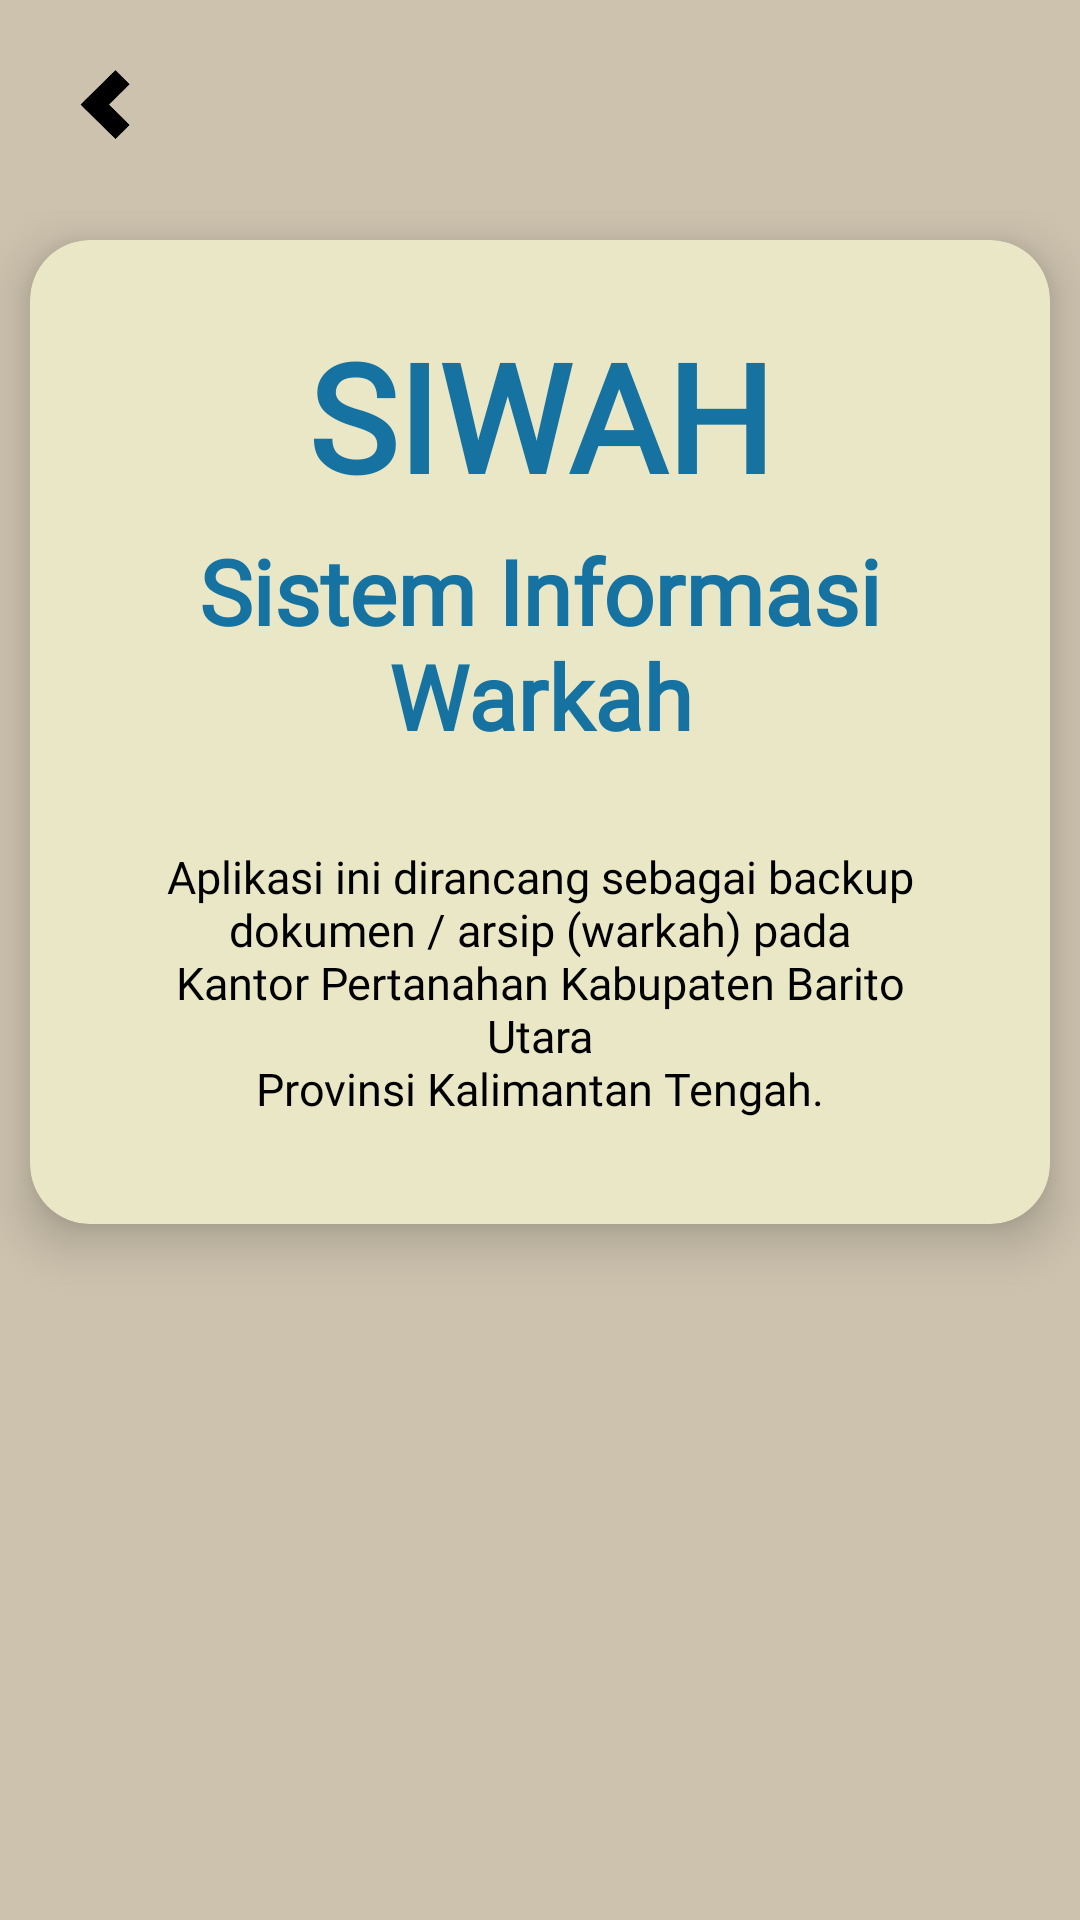

Named icons in this screenshot (1080w x 1920h) and their centers, (x=x, y=y):
backbutton: (x=105, y=104)
